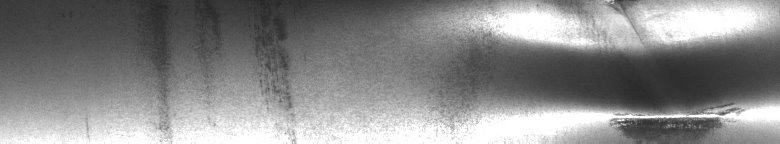ke: (558, 51, 739, 130)
